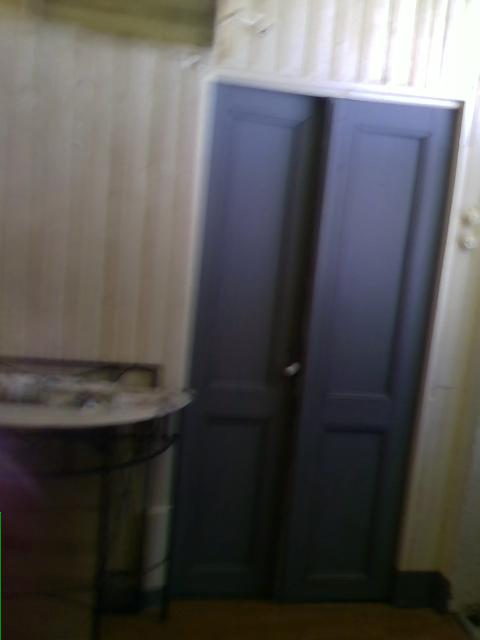closed_door: (162, 74, 463, 609)
